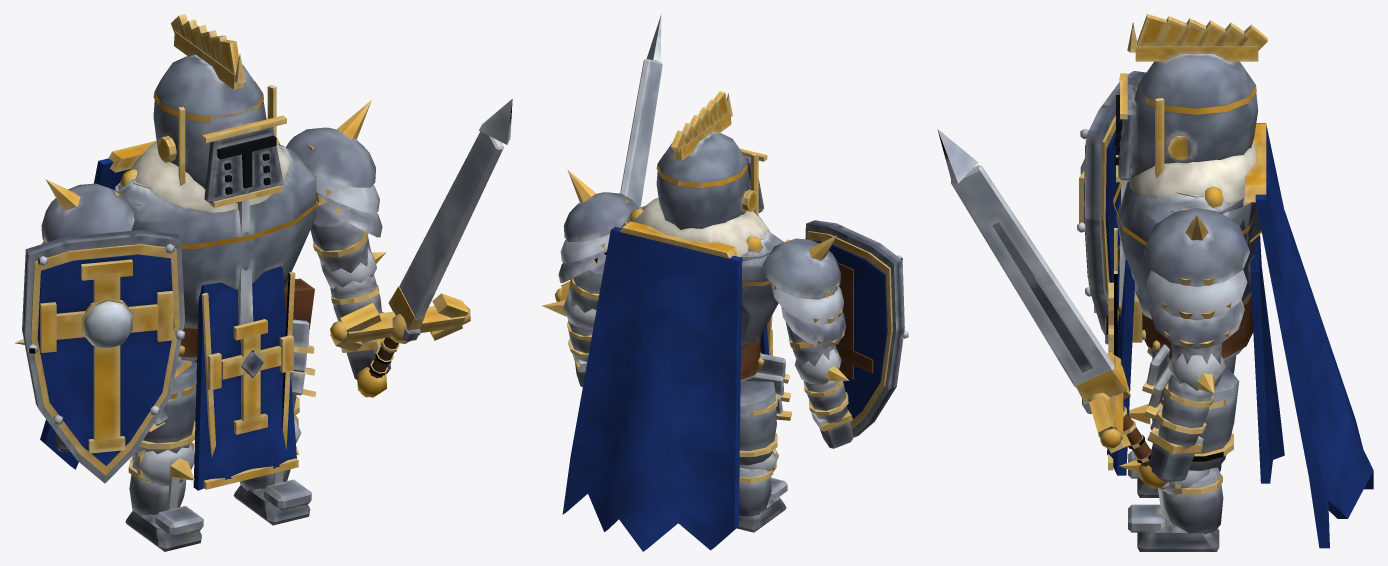
File: knight.glb
The picture shows the model from 3 angles, left to right: view 1: azimuth 30°, elevation 25°; view 2: azimuth 150°, elevation 25°; view 3: azimuth 270°, elevation 25°; orthographic projection. The views are drawn at different scales.
Parts seen in each view (by area): view 1: Torso, ShieldGroup, Head, Sword, ArmR, LegL, ArmL, LegR; view 2: Torso, ShieldGroup, ArmL, Head, ArmR, LegL, Sword; view 3: Torso, Head, ArmR, Sword, LegR, ShieldGroup, LegL.
Boxes of the visible parts, x1,y1,x2,y2 form: Torso: [40, 138, 319, 490]; ShieldGroup: [22, 230, 184, 483]; Head: [153, 14, 286, 207]; Sword: [330, 99, 512, 397]; ArmR: [286, 100, 390, 379]; LegL: [125, 361, 203, 551]; ArmL: [15, 179, 134, 452]; LegR: [233, 372, 311, 525]; Torso: [562, 197, 791, 551]; ShieldGroup: [805, 220, 908, 437]; ArmL: [763, 235, 853, 448]; Head: [656, 91, 767, 229]; ArmR: [542, 169, 638, 387]; LegL: [736, 381, 787, 532]; Sword: [555, 14, 662, 301]; Torso: [1105, 123, 1373, 548]; Head: [1114, 14, 1267, 242]; ArmR: [1144, 208, 1249, 482]; Sword: [937, 129, 1169, 490]; LegR: [1119, 368, 1239, 551]; ShieldGroup: [1077, 71, 1146, 334]; LegL: [1128, 351, 1236, 497].
Size of the model in its own units: 1.92 by 2.07 by 1.64.
2 materials, 2 textured.
